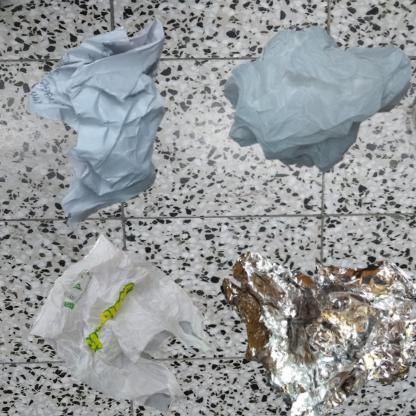aluminio: (213, 213, 416, 416)
bolsa: (10, 213, 234, 416), (213, 10, 416, 193)
papel: (10, 10, 222, 252)
